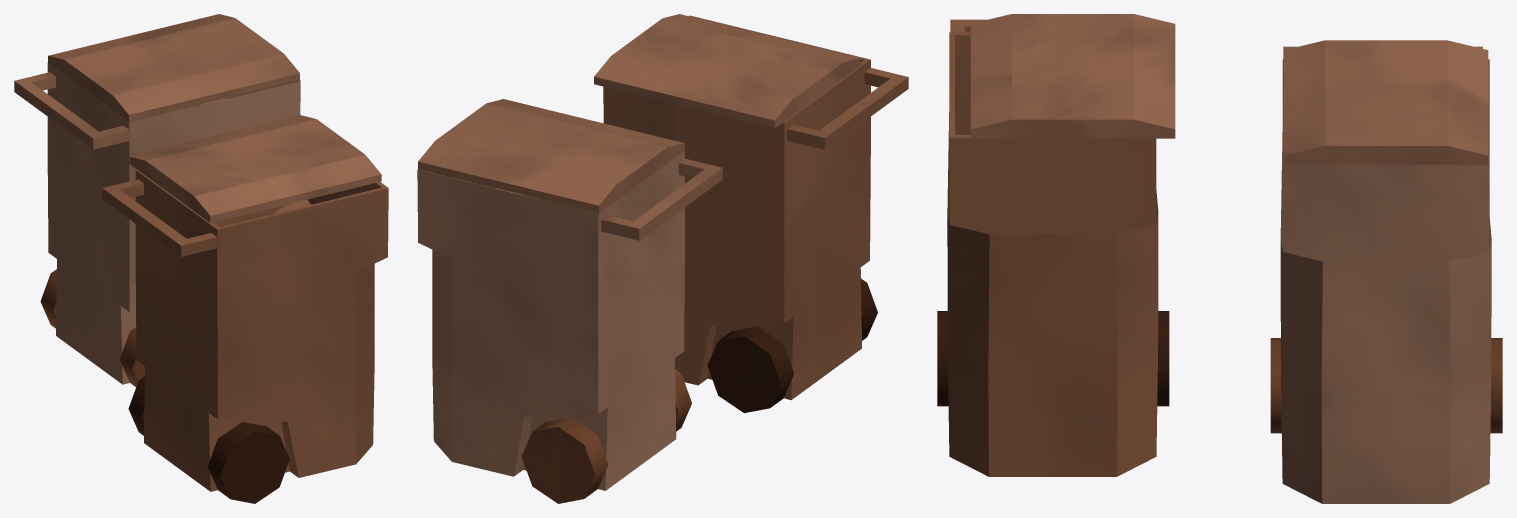
The model's file is SM_TrashBin.fbx.
The picture shows the model from 3 angles, left to right: view 1: azimuth 30°, elevation 25°; view 2: azimuth 150°, elevation 25°; view 3: azimuth 270°, elevation 25°; orthographic projection. The views are drawn at different scales.
Visible parts, largest first — view 1: SM_TrashBinOpen, SM_TrashBinClosed, SM_TrashBinLid; view 2: SM_TrashBinClosed, SM_TrashBinOpen, SM_TrashBinLid; view 3: SM_TrashBinClosed, SM_TrashBinOpen, SM_TrashBinLid.
Boxes of the visible parts, <box> form: SM_TrashBinOpen: <box>102,169,388,503</box>; SM_TrashBinClosed: <box>14,14,300,386</box>; SM_TrashBinLid: <box>129,115,381,222</box>; SM_TrashBinClosed: <box>417,99,722,503</box>; SM_TrashBinOpen: <box>603,15,908,413</box>; SM_TrashBinLid: <box>594,14,860,128</box>; SM_TrashBinClosed: <box>1270,40,1502,503</box>; SM_TrashBinOpen: <box>937,19,1169,476</box>; SM_TrashBinLid: <box>970,14,1175,138</box>.
Bounding box in the file's own units: 1.09 × 1.21 × 1.67.
